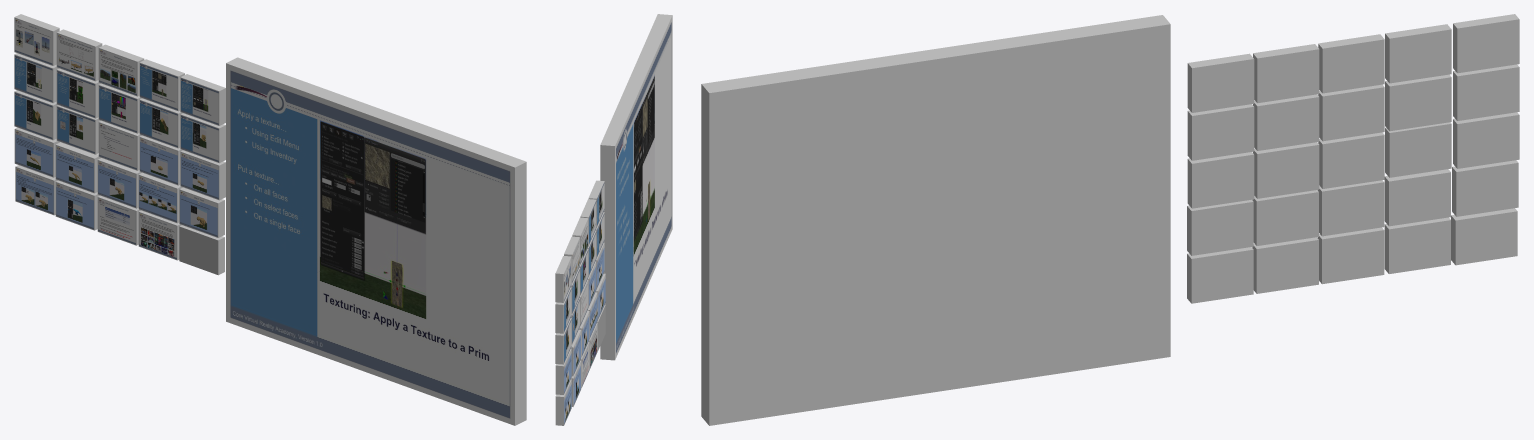
The model's file is VRA_Lecture2_V1_157-142-023__1be9a5aa-72ba-462e-a8e9-b096ac31b227.dae.
3 renders of one model, left to right at view 1: azimuth 30°, elevation 25°; view 2: azimuth 150°, elevation 25°; view 3: azimuth 270°, elevation 25°, orthographic. The views are drawn at different scales.
Parts seen in each view (by area): view 1: VRA_Lecture2_V1, Slideshow (×25); view 2: VRA_Lecture2_V1, Slideshow (×25); view 3: VRA_Lecture2_V1, Slideshow (×25).
Part boxes in pixels (<box>): VRA_Lecture2_V1: <box>226,57,526,425</box>; Slideshow (×25): <box>14,14,225,275</box>; VRA_Lecture2_V1: <box>600,14,672,360</box>; Slideshow (×25): <box>555,180,605,425</box>; VRA_Lecture2_V1: <box>701,15,1170,425</box>; Slideshow (×25): <box>1187,14,1519,303</box>.
Bounding box in the file's own units: 2.76 × 7.6 × 3.41.
